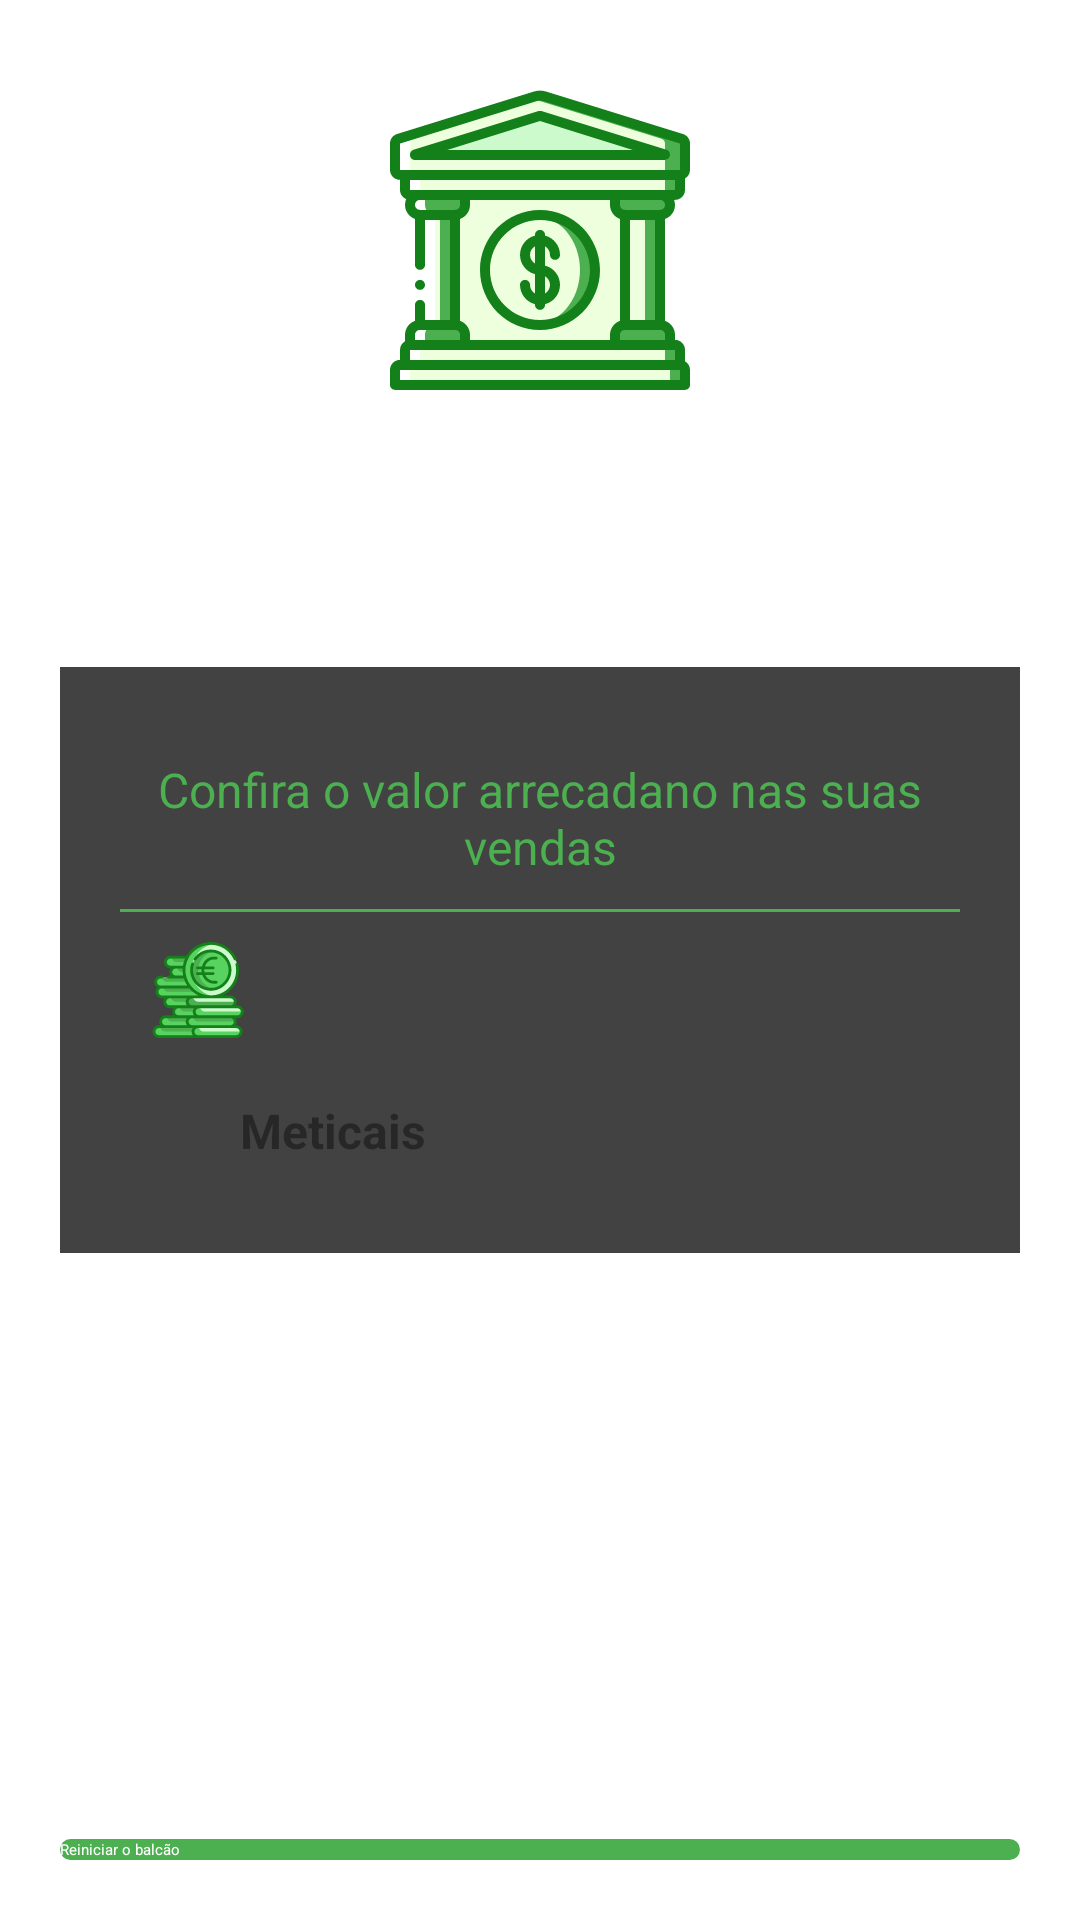

Named icons in this screenshot (1080x1920) and their centers, [x,y]:
Bank: [540,240]
